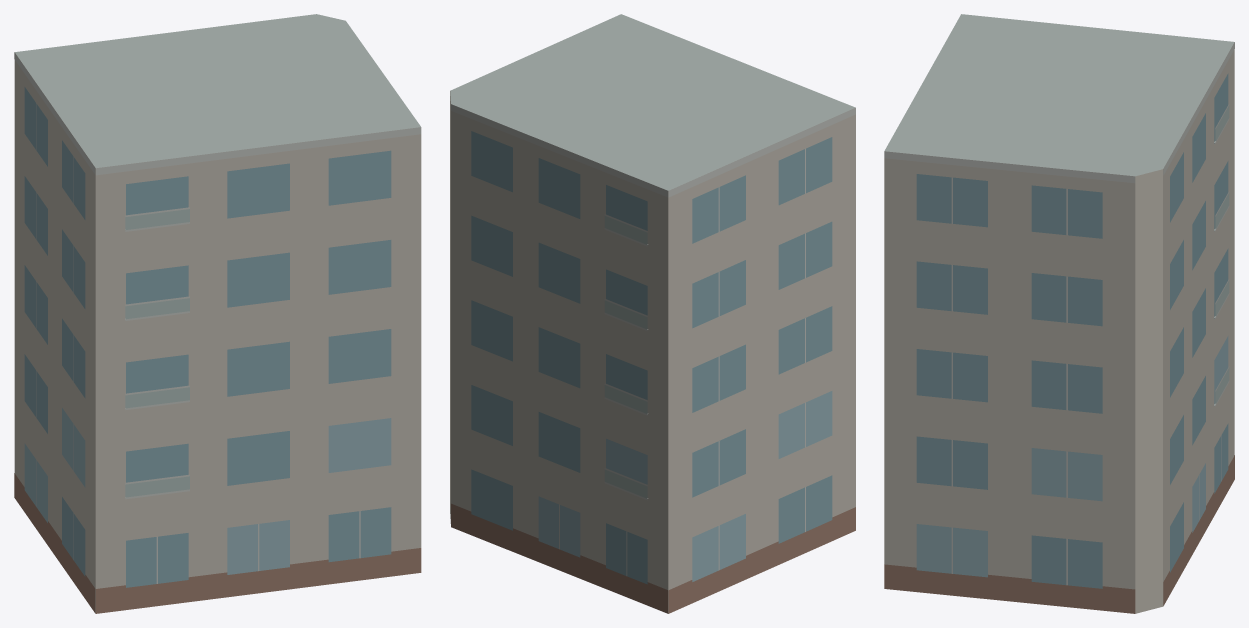
Rendered from survey-upis-32529260.glb.
3 views of the same model, side by side, from view 1: azimuth 30°, elevation 25°; view 2: azimuth 150°, elevation 25°; view 3: azimuth 270°, elevation 25° (orthographic). The views are drawn at different scales.
Parts seen in each view (by area): view 1: survey-upis-32529260.tmp; view 2: survey-upis-32529260.tmp; view 3: survey-upis-32529260.tmp.
Part boxes in pixels (x1,y1,x2,y2): survey-upis-32529260.tmp: (14,14,421,613); survey-upis-32529260.tmp: (450,14,855,613); survey-upis-32529260.tmp: (884,14,1234,613).
Size of the model in its own units: 12.14 by 15.25 by 11.08.
